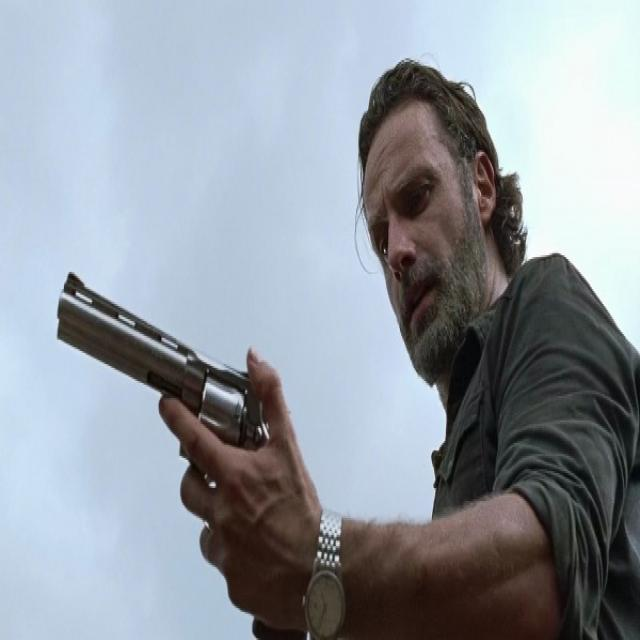weapons: (39, 235, 310, 581)
